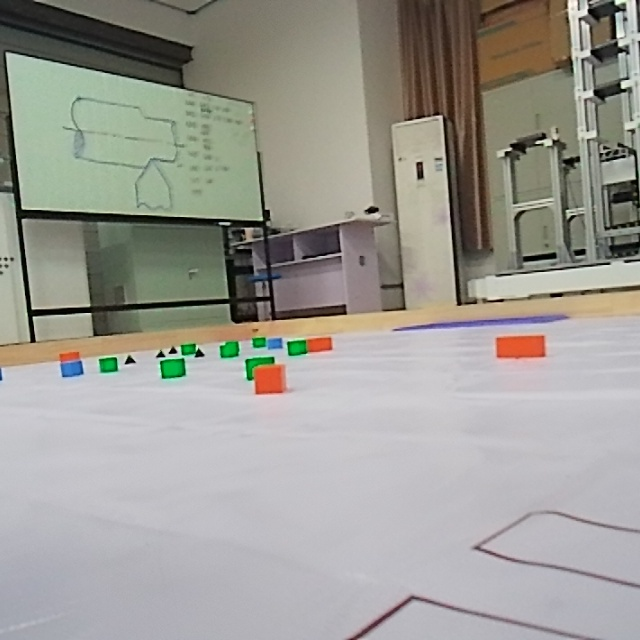black: (125, 350, 138, 365), (195, 346, 205, 358), (167, 346, 179, 356), (153, 349, 167, 357)
blue: (97, 357, 121, 375), (62, 361, 83, 380), (267, 338, 284, 350)
green: (159, 358, 185, 380), (283, 338, 308, 356), (220, 343, 243, 357), (251, 336, 265, 350), (180, 342, 194, 355)
orange: (489, 334, 548, 361), (252, 363, 295, 397), (308, 335, 332, 350), (62, 351, 82, 362)
